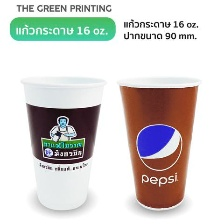paper_cup: (16, 70, 108, 214), (113, 70, 204, 213)
